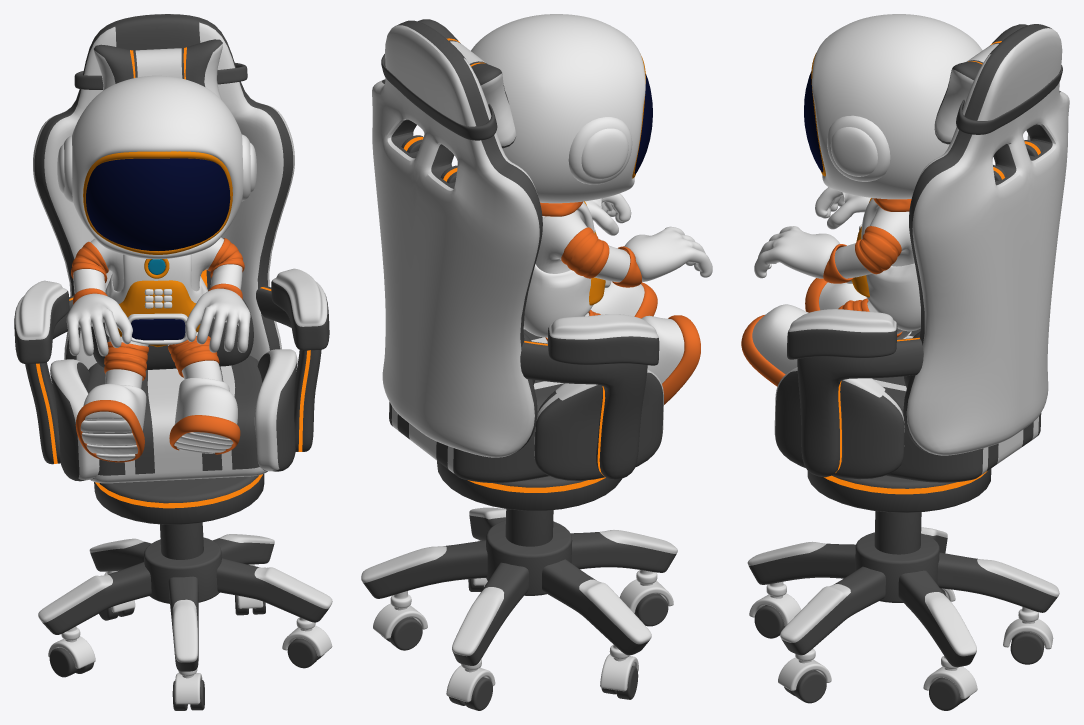
Rendered from astronauta_silla.glb.
3 renders of one model, left to right at view 1: azimuth 30°, elevation 25°; view 2: azimuth 150°, elevation 25°; view 3: azimuth 270°, elevation 25°, orthographic. The views are drawn at different scales.
Visible parts, largest first — view 1: Plane.044, Cube.129, Cube.119, Plane.042, Cube.127, Plane.045, Cube.015, Plane.047, Circle.008, Cube.132, Plane.046, Cube.017 (+23 smaller); view 2: Plane.044, Cube.129, Cube.014, Plane.045, Plane.046, Cube.015, Plane.047, Cube.127, Plane.042, Circle.008, Cube.132, Cube.016 (+17 smaller); view 3: Plane.044, Cube.129, Cube.014, Plane.045, Plane.046, Circle.008, Plane.047, Cube.015, Cube.127, Plane.042, Cube.132, Cube.016 (+18 smaller).
Part boxes in pixels (<box>): Plane.044: <box>33,14,294,369</box>; Cube.129: <box>72,75,243,259</box>; Cube.119: <box>86,158,230,250</box>; Plane.042: <box>87,355,267,483</box>; Cube.127: <box>75,377,240,462</box>; Plane.045: <box>50,349,297,481</box>; Cube.015: <box>38,558,332,634</box>; Plane.047: <box>14,268,329,363</box>; Circle.008: <box>94,474,264,524</box>; Cube.132: <box>66,288,250,356</box>; Plane.046: <box>25,286,321,464</box>; Cube.017: <box>93,39,222,99</box>; Plane.044: <box>372,20,542,457</box>; Cube.129: <box>471,14,645,203</box>; Cube.014: <box>361,540,528,665</box>; Plane.045: <box>534,369,663,480</box>; Plane.046: <box>520,340,647,479</box>; Cube.015: <box>469,507,651,655</box>; Plane.047: <box>547,314,659,365</box>; Cube.127: <box>590,281,700,404</box>; Plane.042: <box>389,328,564,482</box>; Circle.008: <box>437,461,621,510</box>; Cube.132: <box>585,193,712,281</box>; Cube.016: <box>570,530,677,572</box>; Plane.044: <box>903,24,1069,455</box>; Cube.129: <box>812,14,982,199</box>; Cube.014: <box>898,552,1059,666</box>; Plane.045: <box>774,367,904,479</box>; Plane.046: <box>797,337,923,477</box>; Circle.008: <box>807,468,991,512</box>; Plane.047: <box>787,309,897,359</box>; Cube.015: <box>780,527,947,655</box>; Cube.127: <box>741,278,911,386</box>; Plane.042: <box>872,328,1041,482</box>; Cube.132: <box>754,187,870,278</box>; Cube.016: <box>747,541,855,584</box>.
Bounding box in the file's own units: 2.44 × 5.3 × 2.44.
